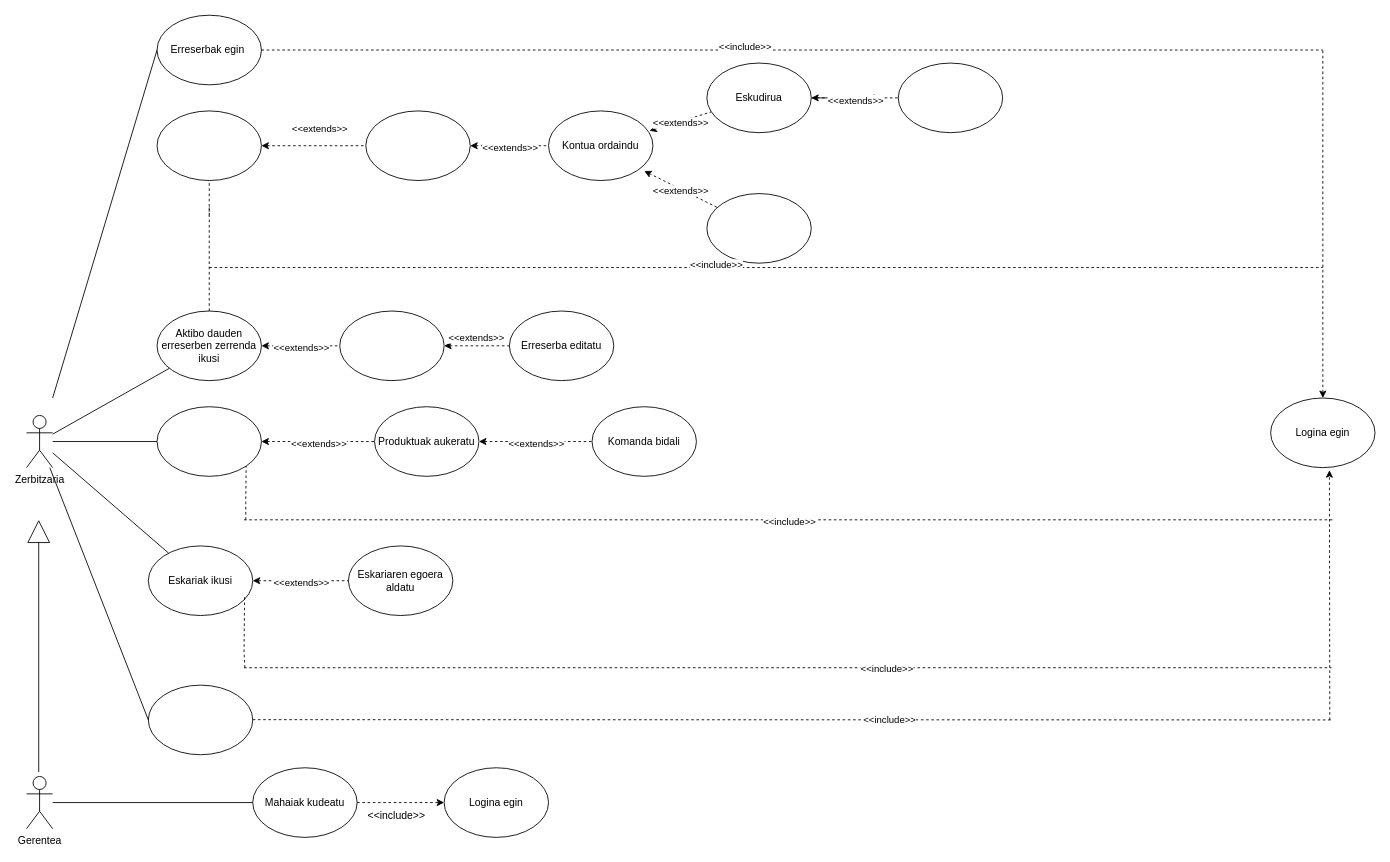
Image size: 1390x862. Some labels were removed from this diagram. The shapes that lost their labels are listed below. From the top down, each one's box as (x1, y1, x2, y2) in pixels, then its label:
(897, 62, 1003, 133): Soberakinak kalkulatu
(156, 110, 261, 181): Erreserba ordaindu
(365, 110, 470, 181): Erreserba aukeratu
(706, 193, 811, 263): Txartela
(339, 310, 444, 381): Erreserbaren egoera ikusi
(156, 406, 261, 476): Eskaria sortu
(147, 684, 253, 755): Mahaiak ikusi
